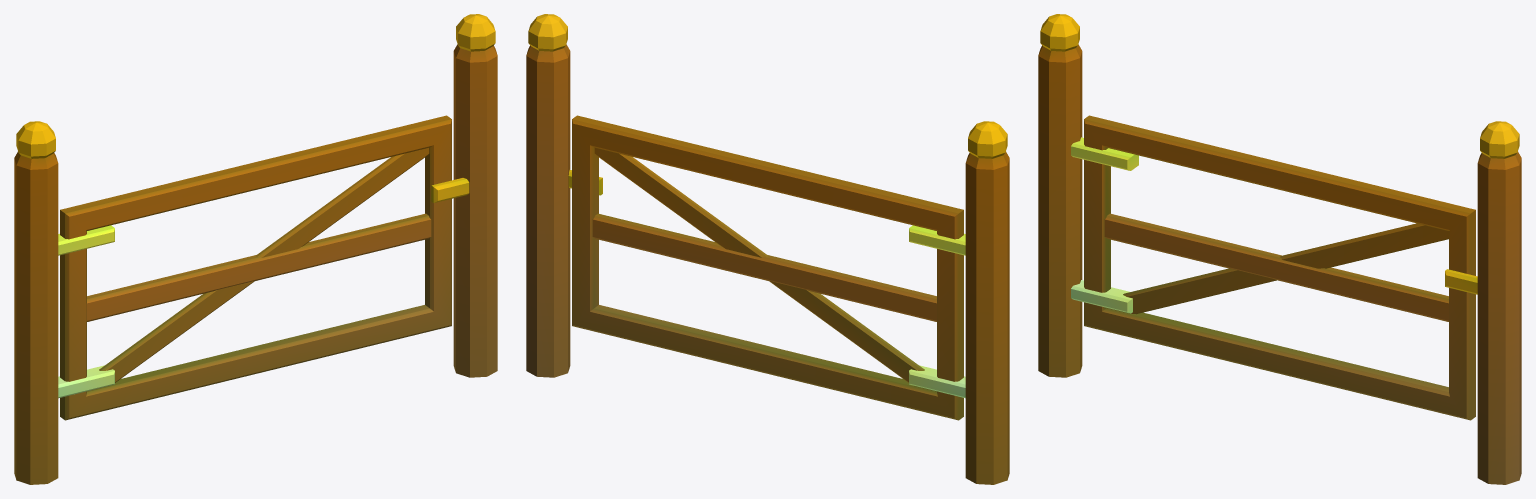
Rendered from Farm_Gate.fbx.
The picture shows the model from 3 angles, left to right: view 1: azimuth 30°, elevation 25°; view 2: azimuth 150°, elevation 25°; view 3: azimuth 330°, elevation 25°; orthographic projection.
Parts seen in each view (by area): view 1: Gate, Farm_Gate; view 2: Gate, Farm_Gate; view 3: Gate, Farm_Gate.
Boxes of the visible parts, box(x1,y1,x2,y2) form: Gate: box(58, 115, 469, 420); Farm_Gate: box(14, 14, 497, 484); Gate: box(568, 115, 965, 420); Farm_Gate: box(526, 14, 1009, 484); Gate: box(1071, 115, 1477, 420); Farm_Gate: box(1038, 14, 1521, 484).
Size of the model in its own units: 2.18 by 1.53 by 0.18.
